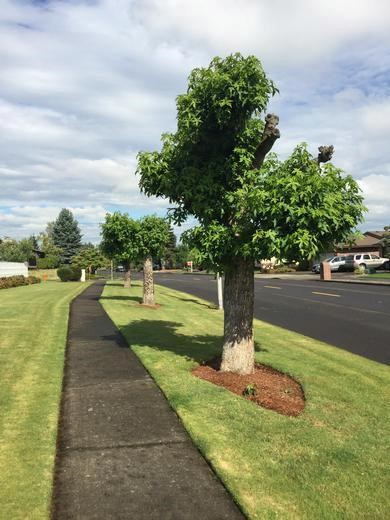grass: (107, 286, 387, 517), (0, 279, 86, 516)
tree: (221, 260, 255, 372), (142, 259, 155, 306)
